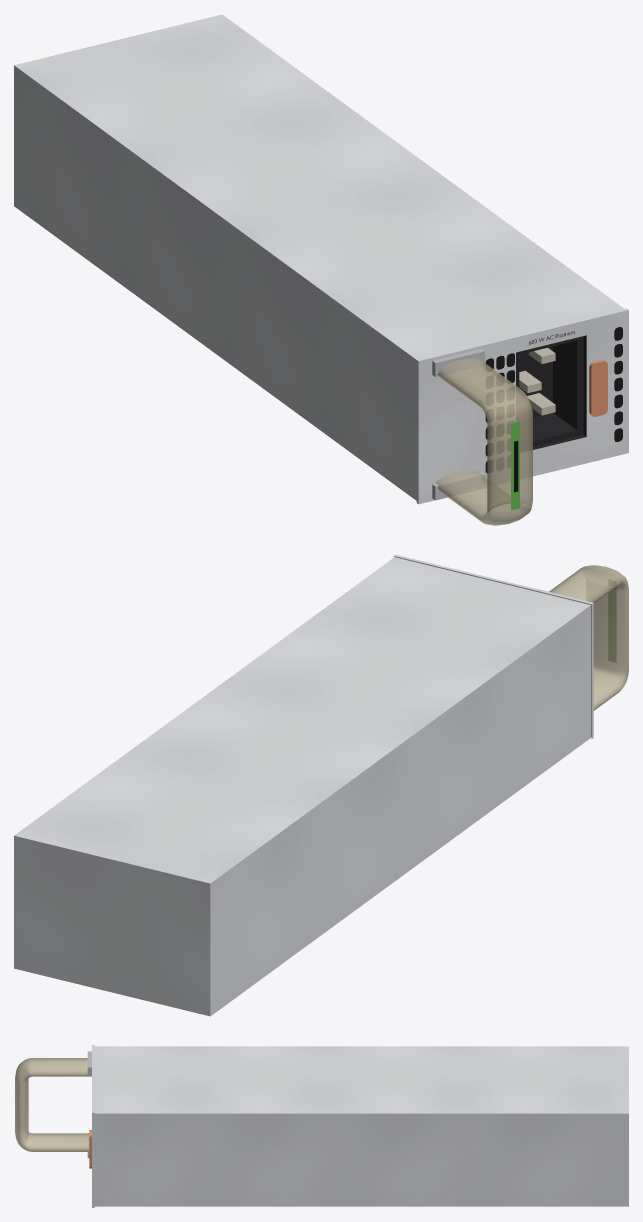
File: DELL-PSU-R350-600W.glb
3 views of the same model, one above another, from view 1: azimuth 30°, elevation 25°; view 2: azimuth 150°, elevation 25°; view 3: azimuth 270°, elevation 25° (orthographic). The views are drawn at different scales.
Visible parts, largest first — view 1: PSU, PSU_Handle; view 2: PSU, PSU_Handle; view 3: PSU, PSU_Handle.
Boxes of the visible parts, x1,y1,x2,y2 form: PSU: (14,14,628,504); PSU_Handle: (436,358,532,525); PSU: (14,554,593,1016); PSU_Handle: (549,565,628,710); PSU: (87,1045,628,1207); PSU_Handle: (15,1058,89,1151).
Size of the model in its own units: 0.06 by 0.039 by 0.2294.
10 materials, 1 textured.
